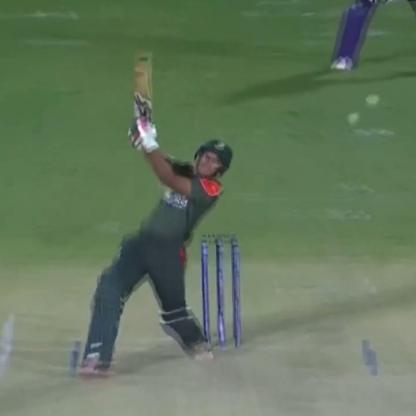ball: (343, 110, 364, 126), (364, 94, 383, 107)
bat: (124, 44, 158, 134)
pitch: (6, 294, 416, 416)
